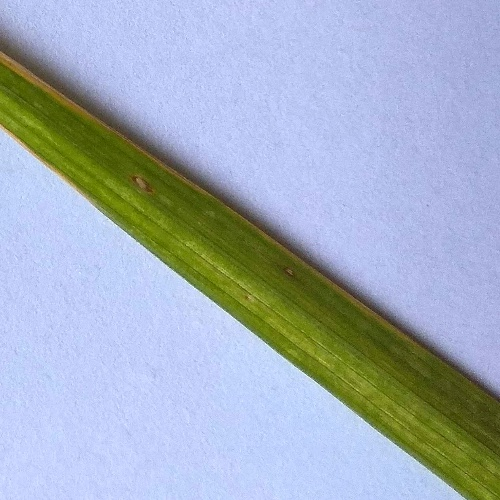Busuk Leher: (129, 167, 153, 200), (279, 261, 302, 283)
